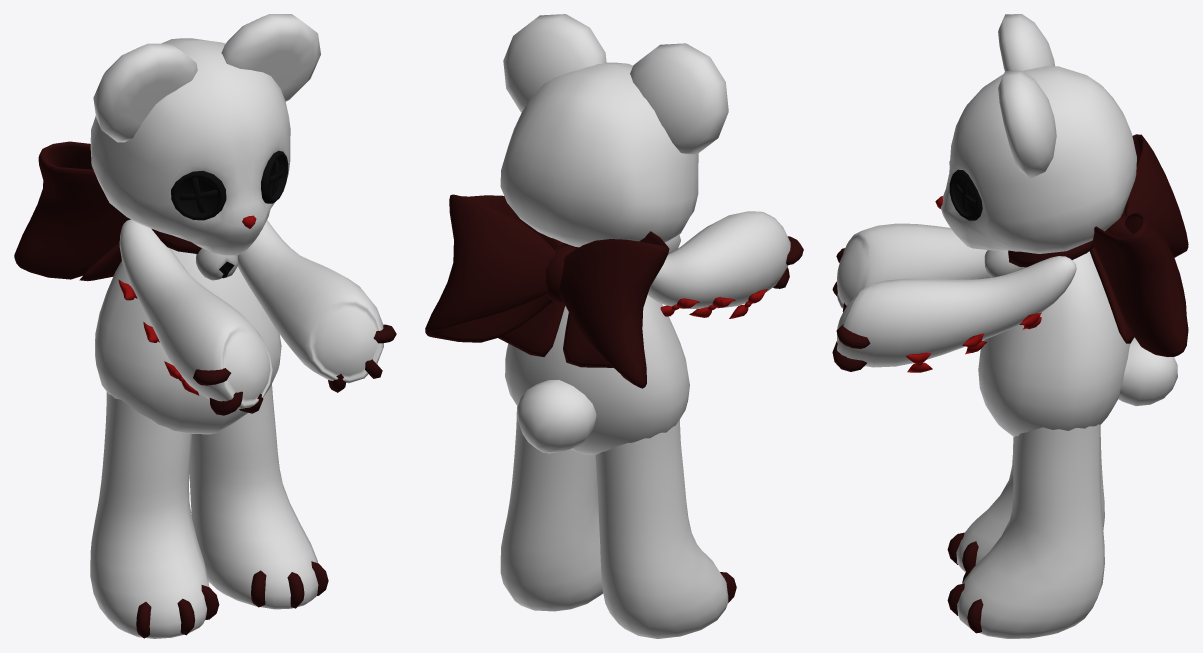
File: Teddy Bear.FBX
3 views of the same model, side by side, from view 1: azimuth 30°, elevation 25°; view 2: azimuth 150°, elevation 25°; view 3: azimuth 270°, elevation 25° (orthographic). The views are drawn at different scales.
Parts seen in each view (by area): view 1: Teddy_Bear; view 2: Teddy_Bear; view 3: Teddy_Bear.
Boxes of the visible parts, <box> form: Teddy_Bear: <box>14,14,396,638</box>; Teddy_Bear: <box>425,14,803,638</box>; Teddy_Bear: <box>832,14,1188,638</box>.
Bounding box in the file's own units: 83.2 × 207 × 121.
